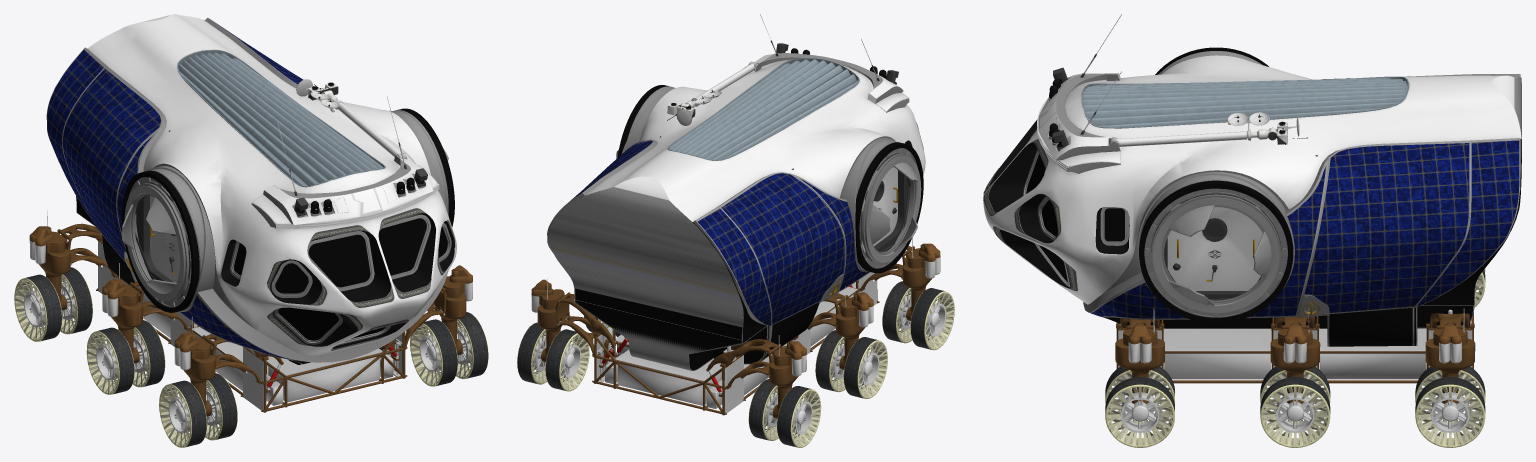
File: sev_rover_desktop.glb
The picture shows the model from 3 angles, left to right: view 1: azimuth 30°, elevation 25°; view 2: azimuth 150°, elevation 25°; view 3: azimuth 270°, elevation 25°; orthographic projection. The views are drawn at different scales.
Visible parts, largest first — view 1: MMSEV; view 2: MMSEV; view 3: MMSEV.
Part boxes in pixels (x1,y1,x2,y2): MMSEV: [14, 14, 488, 447]; MMSEV: [517, 14, 954, 447]; MMSEV: [983, 14, 1521, 447].
Size of the model in its own units: 4.04 by 3.97 by 5.91.
Materials: 1 (1 with a texture image).
